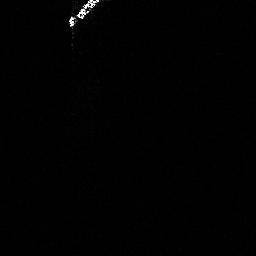ship: (65, 1, 104, 31)
